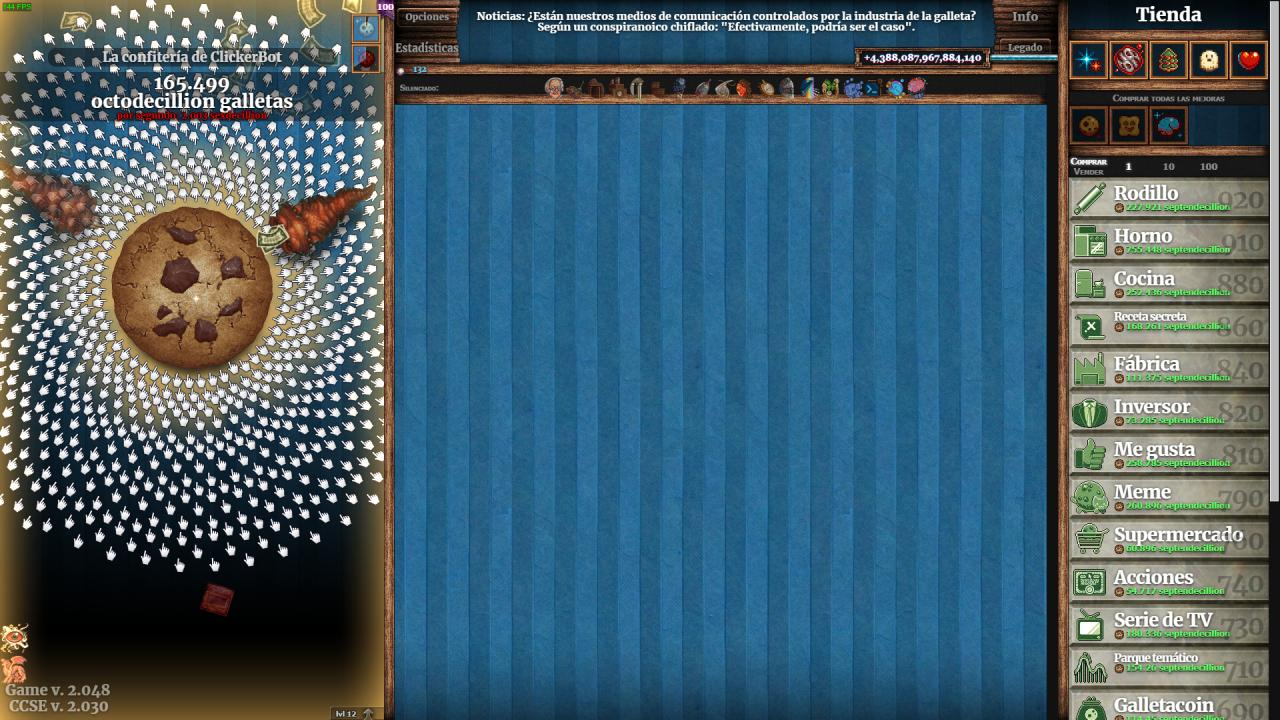RedCartridge: (199, 581, 236, 619)
